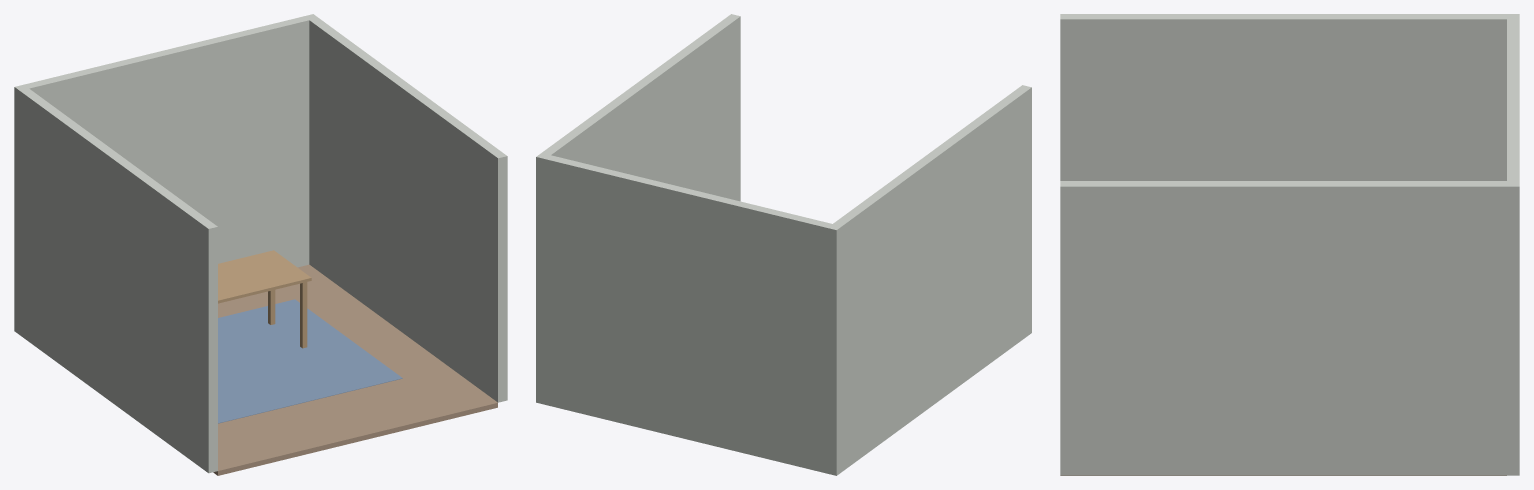
The model's file is room.gltf.
3 renders of one model, left to right at view 1: azimuth 30°, elevation 25°; view 2: azimuth 150°, elevation 25°; view 3: azimuth 270°, elevation 25°, orthographic. The views are drawn at different scales.
Visible parts, largest first — view 1: RightWall, LeftWall, BackWall, Floor, Rug, DeskTop, LegD; view 2: BackWall, LeftWall, RightWall; view 3: RightWall, LeftWall, BackWall.
Part boxes in pixels (x1,y1,x2,y2): RightWall: (309,18,507,402); LeftWall: (20,88,217,473); BackWall: (14,14,318,334); Floor: (213,264,497,475); Rug: (218,299,402,423); DeskTop: (218,250,311,303); LegD: (300,282,307,348); BackWall: (536,153,841,475); LeftWall: (833,85,1031,471); RightWall: (542,14,740,201); RightWall: (1060,181,1506,475); LeftWall: (1060,14,1506,180); BackWall: (1507,14,1519,475).
Bounding box in the file's own units: 3.2 × 2.55 × 3.6.
